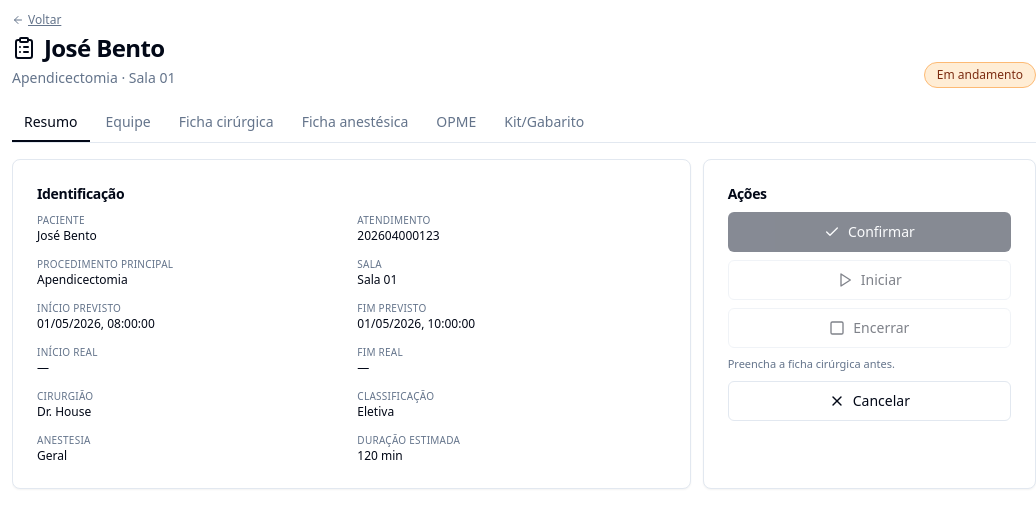
Test: <CirurgiaDetalhePage /> › alterna para tab "Equipe"
This screenshot has width=1036, height=506.
Expected: the heading "José Bento" is shown, [12,32,176,64]
Click the tab "Equipe" at point(128, 123), box [94,104,163,142]
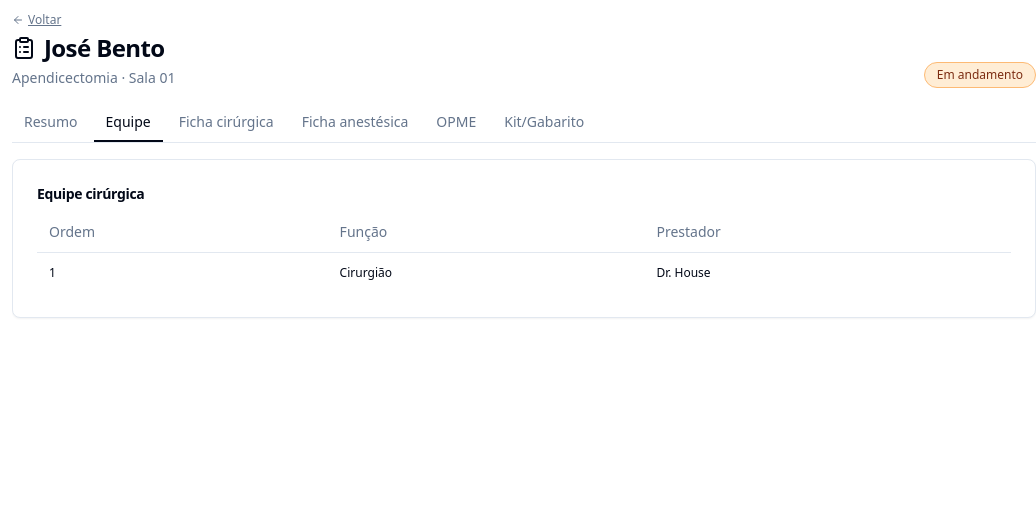
Expected: the text "Dr. House" is shown, [644,252,1011,292]
Now the text "Equipe cirúrgica" is shown, box [37,184,144,203]
